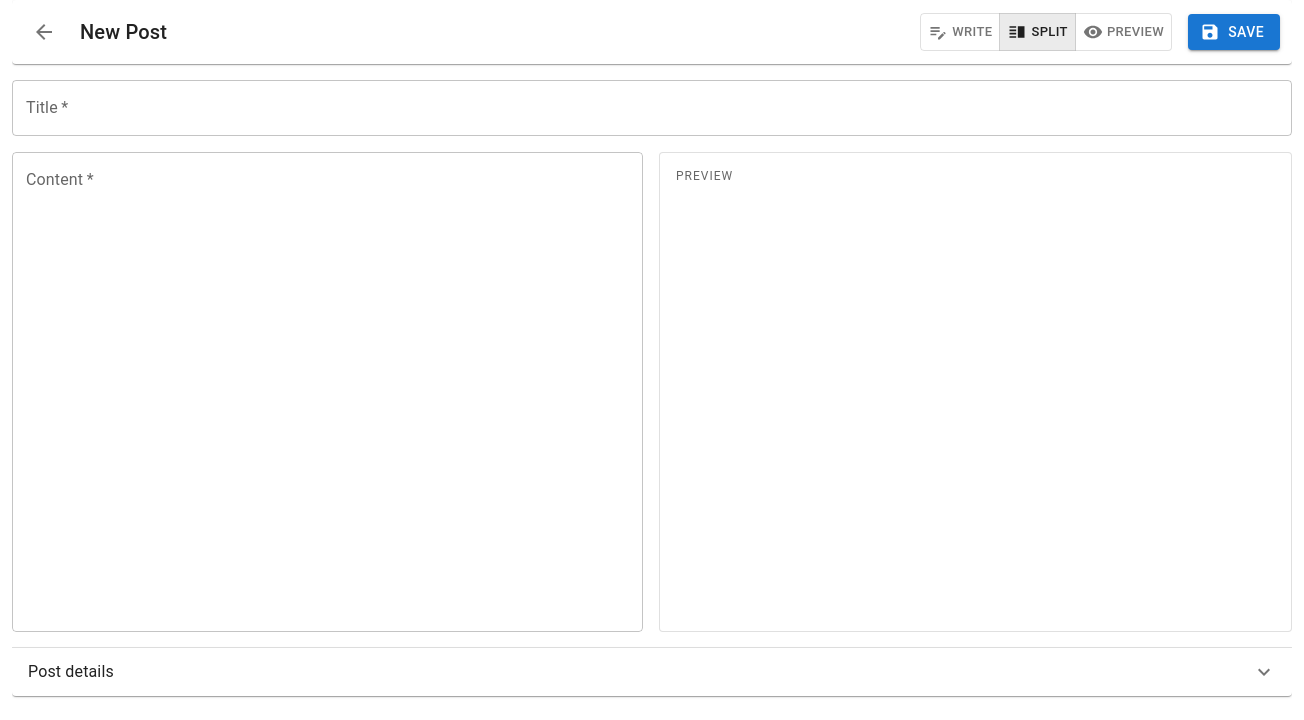
Test case: EditPost page › reports missing required fields instead of saving
This screenshot has width=1304, height=720.
Click the button "Save".
click(1234, 32)  # box [1188,14,1280,50]
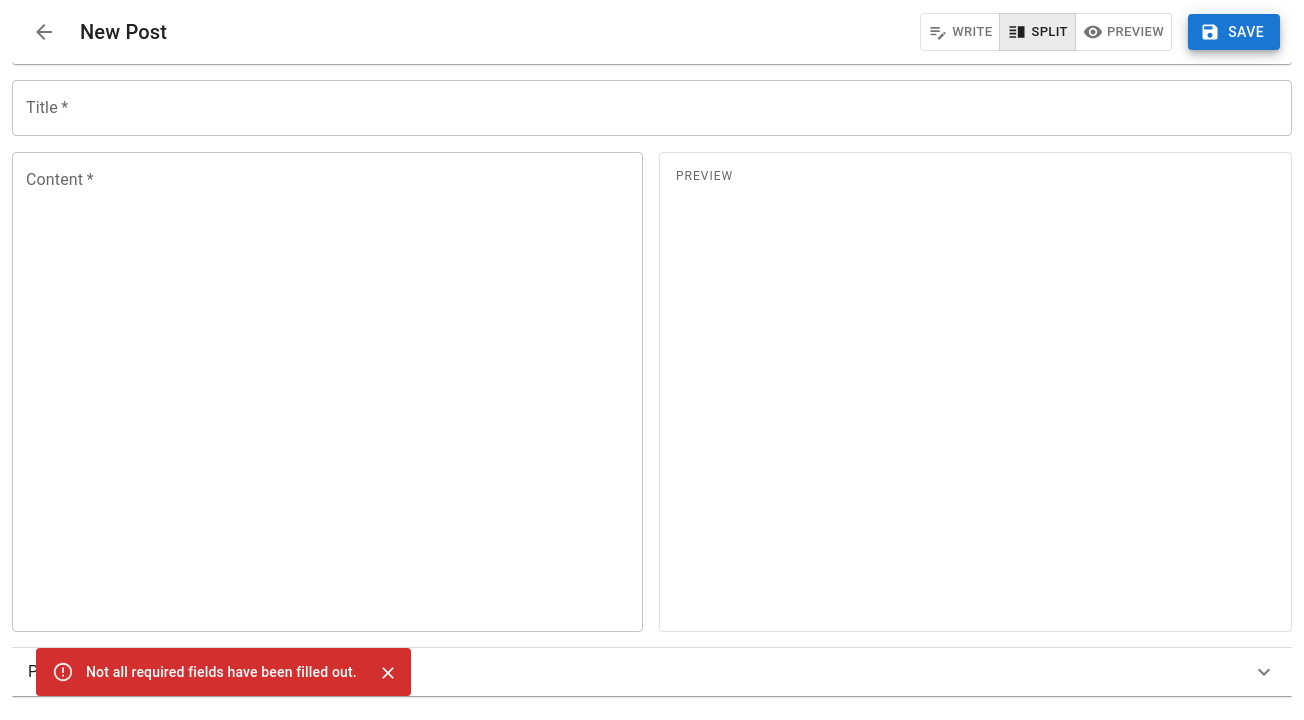
Now the text "Not all required fields have been filled out." is shown, box [86,664,357,680]
